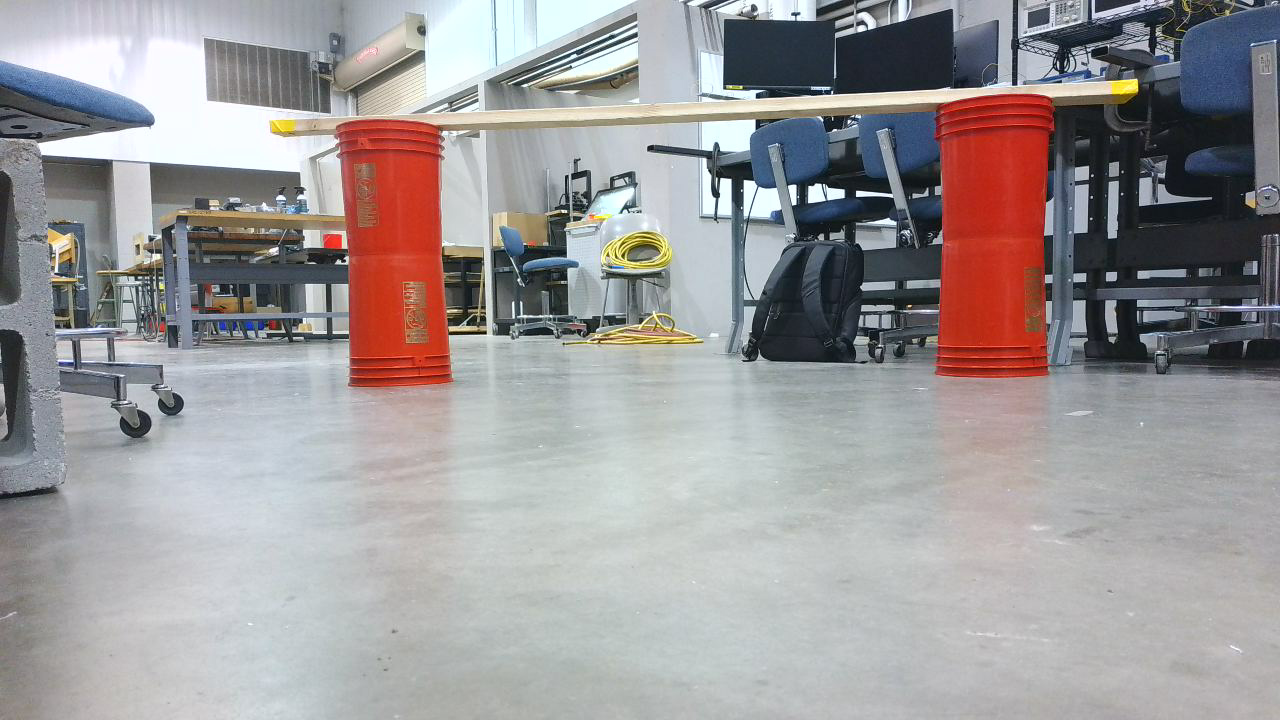red_bucketArch: (337, 91, 1061, 395)
